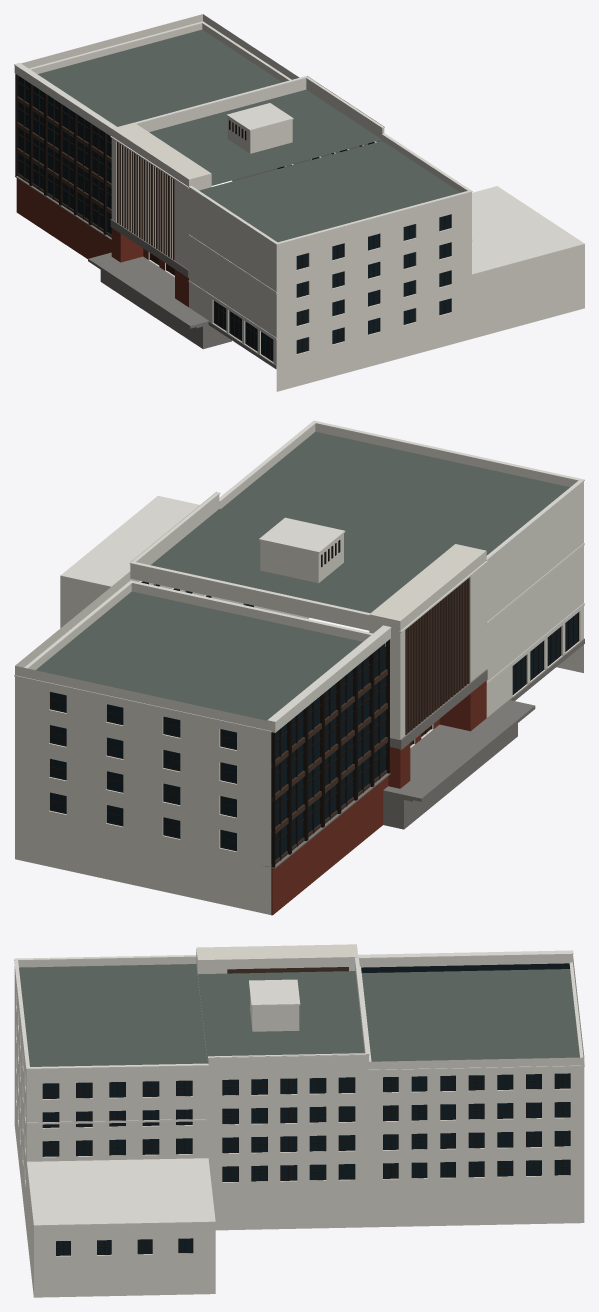
Rendered from dom_oficerov.glb.
The picture shows the model from 3 angles, top to bottom: view 1: azimuth 30°, elevation 25°; view 2: azimuth 150°, elevation 25°; view 3: azimuth 270°, elevation 25°; orthographic projection. The views are drawn at different scales.
Visible parts, largest first — view 1: dom_oficerov_wall, dom_oficerov_roof, dom_oficerov_trim, dom_oficerov_glass, dom_oficerov_metal, dom_oficerov_wall2, dom_oficerov_stone, dom_oficerov_wall3; view 2: dom_oficerov_wall, dom_oficerov_roof, dom_oficerov_trim, dom_oficerov_glass, dom_oficerov_metal, dom_oficerov_stone, dom_oficerov_wall2, dom_oficerov_wall3; view 3: dom_oficerov_wall, dom_oficerov_roof, dom_oficerov_trim, dom_oficerov_glass, dom_oficerov_metal, dom_oficerov_wall2.
Boxes of the visible parts, <box> form: dom_oficerov_wall: <box>14,14,584,391</box>; dom_oficerov_roof: <box>38,29,460,242</box>; dom_oficerov_trim: <box>14,21,584,362</box>; dom_oficerov_glass: <box>18,76,450,360</box>; dom_oficerov_metal: <box>15,74,451,361</box>; dom_oficerov_wall2: <box>17,96,174,260</box>; dom_oficerov_stone: <box>15,176,276,369</box>; dom_oficerov_wall3: <box>16,178,188,307</box>; dom_oficerov_wall: <box>15,424,583,914</box>; dom_oficerov_roof: <box>36,431,569,720</box>; dom_oficerov_trim: <box>14,420,584,851</box>; dom_oficerov_glass: <box>51,581,577,859</box>; dom_oficerov_metal: <box>49,540,578,867</box>; dom_oficerov_stone: <box>262,638,584,868</box>; dom_oficerov_wall2: <box>271,577,469,865</box>; dom_oficerov_wall3: <box>271,680,486,915</box>; dom_oficerov_wall: <box>14,944,584,1297</box>; dom_oficerov_roof: <box>19,964,579,1066</box>; dom_oficerov_trim: <box>14,950,584,1256</box>; dom_oficerov_glass: <box>43,963,569,1254</box>; dom_oficerov_metal: <box>42,964,570,1255</box>; dom_oficerov_wall2: <box>227,967,348,973</box>.
Size of the model in its own units: 48.21 by 21.95 by 60.93.
